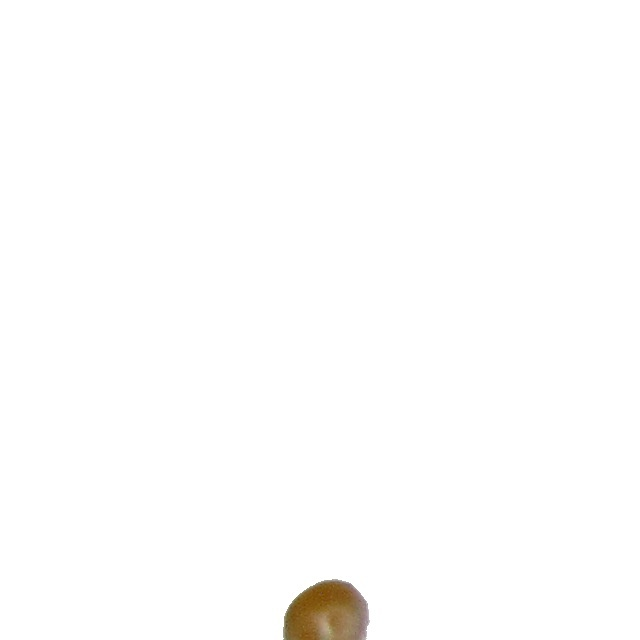mais: (282, 578, 371, 640)
